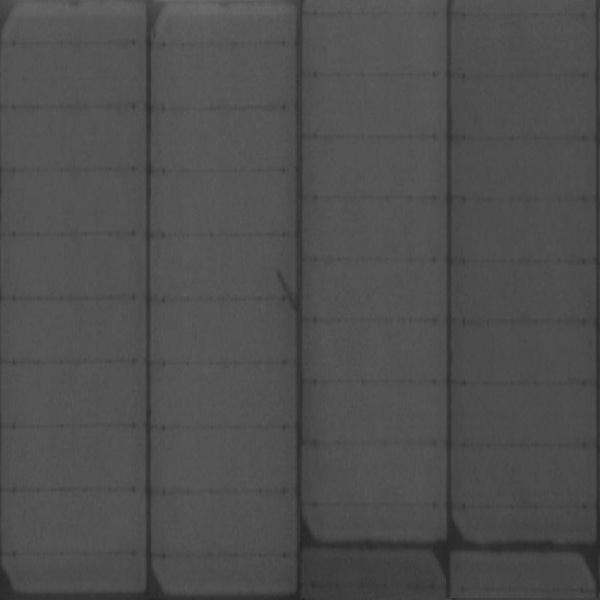scratch: (275, 269, 299, 313)
